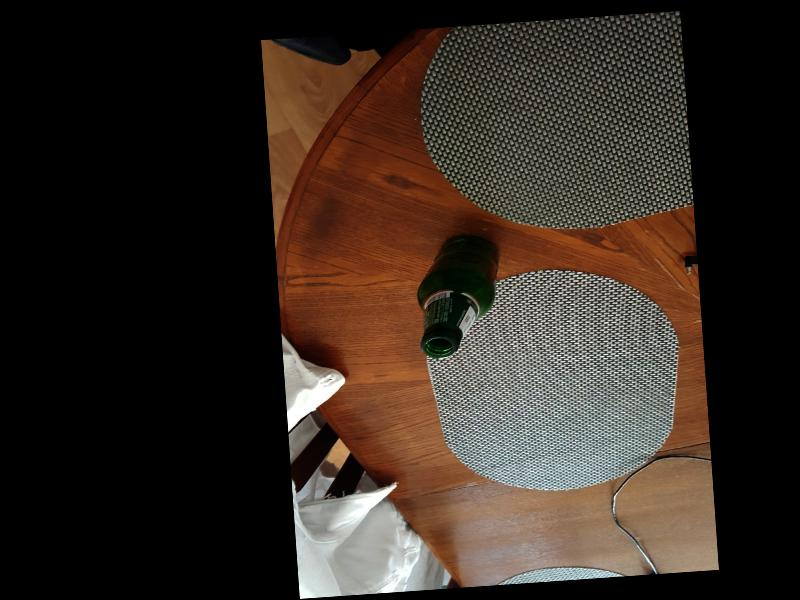Beer: (413, 231, 503, 358)
